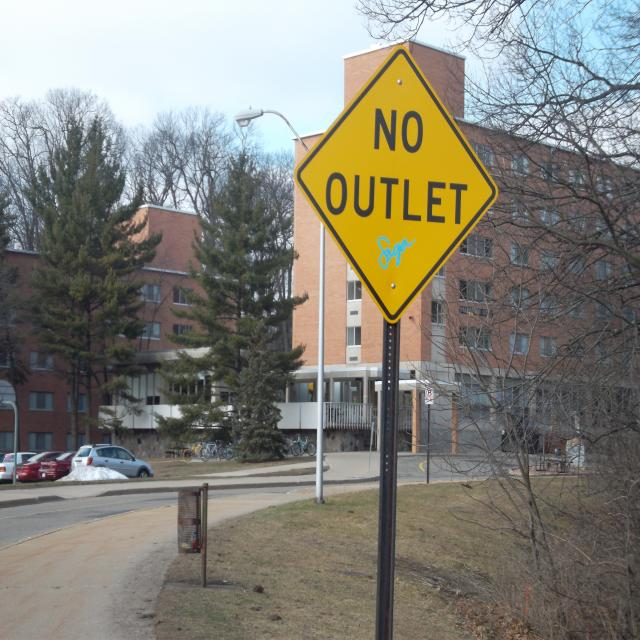warning: (306, 49, 498, 318)
